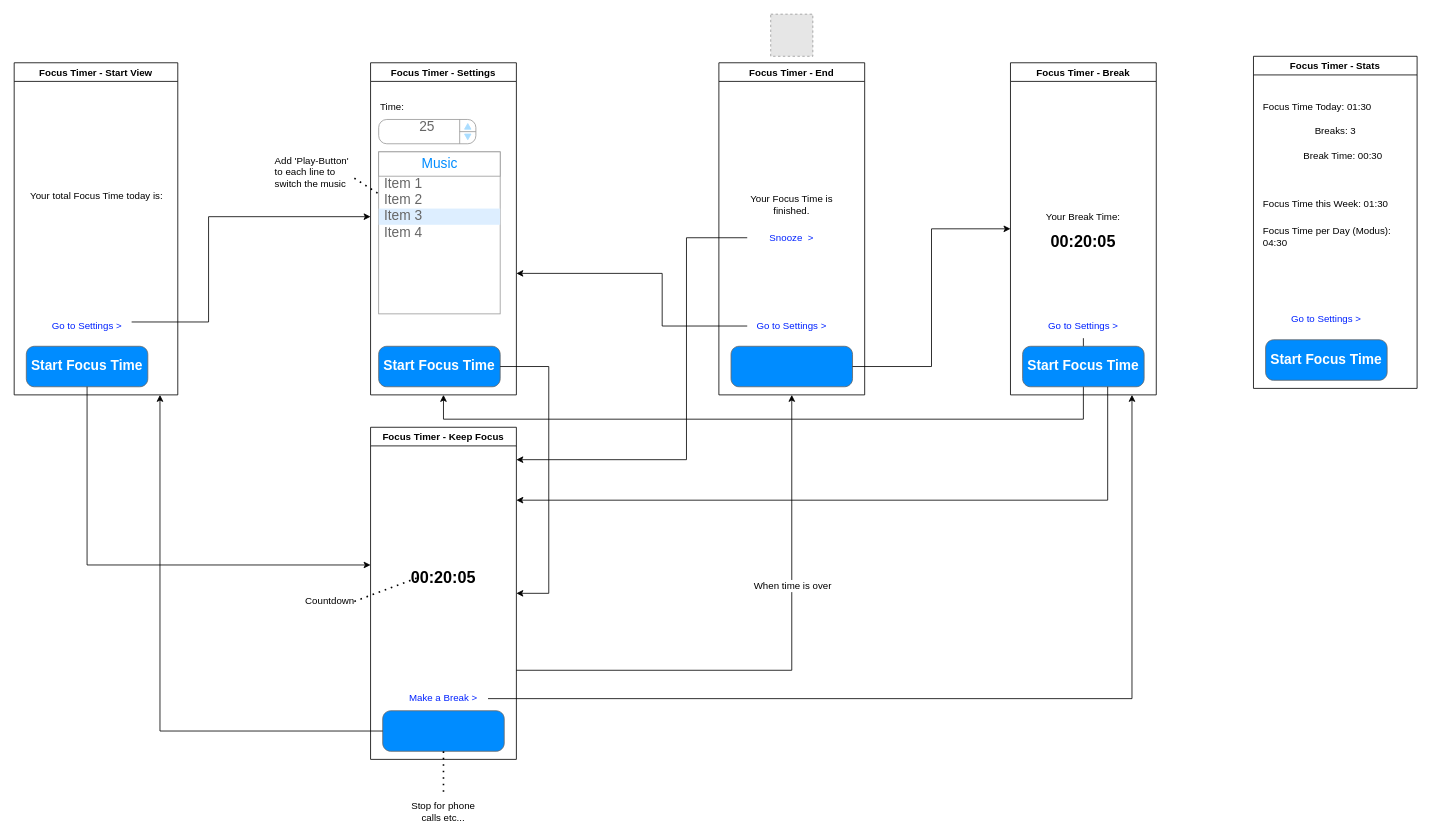
This 1453x838 diagram has some shape labels left out. Grey dashed boxes stand in for pictures. Each missing label, with the centre of its shape:
Start Break: the point at 791,366
Stop: the point at 443,730
